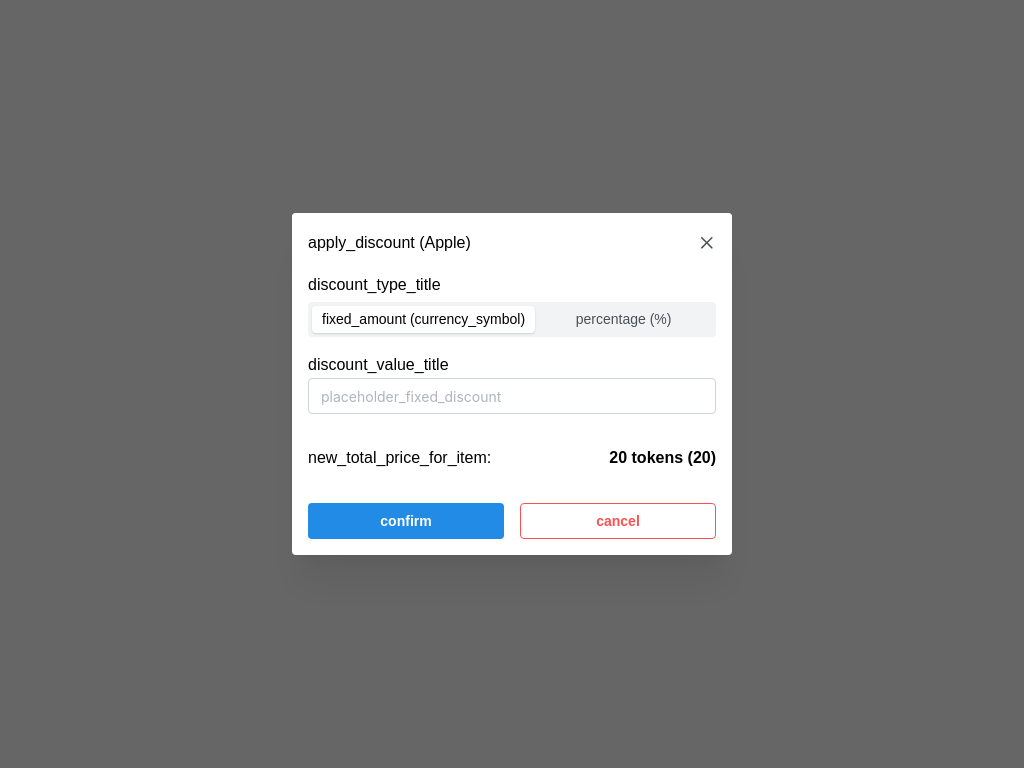
Test case: DiscountModal › shows validation error for invalid discount value
Type "-5" into the field at x=512, y=396, box [308,378,716,414]
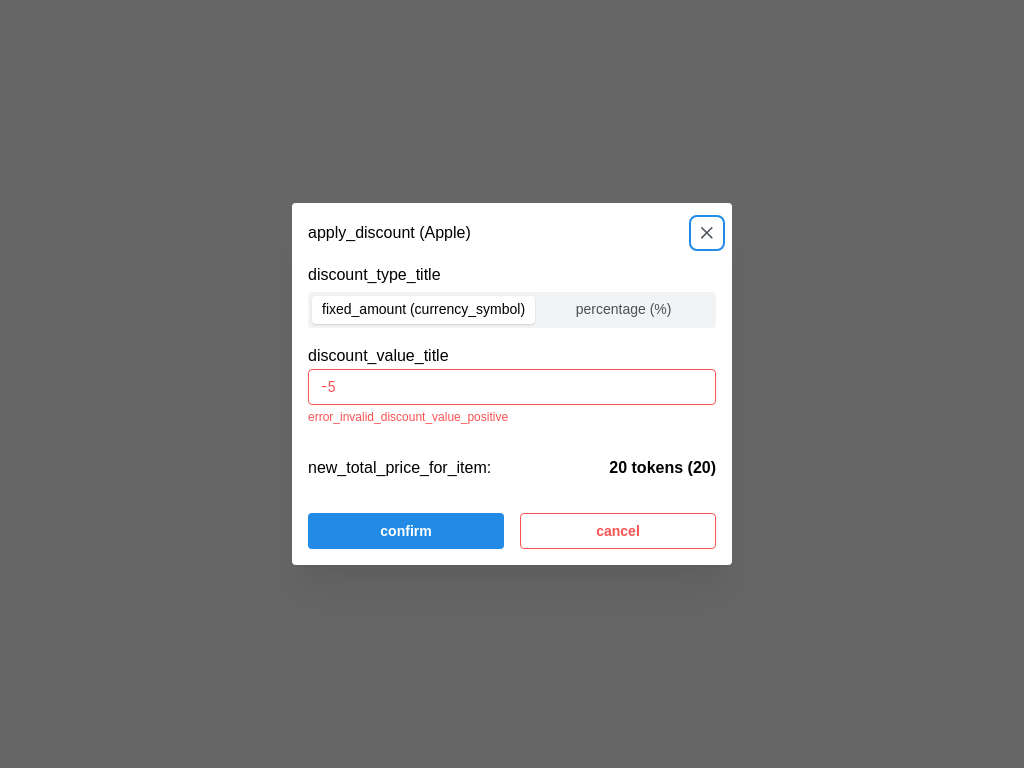
Result: the text "error_invalid_discount_value_positive" is shown at [308,410,508,424]
